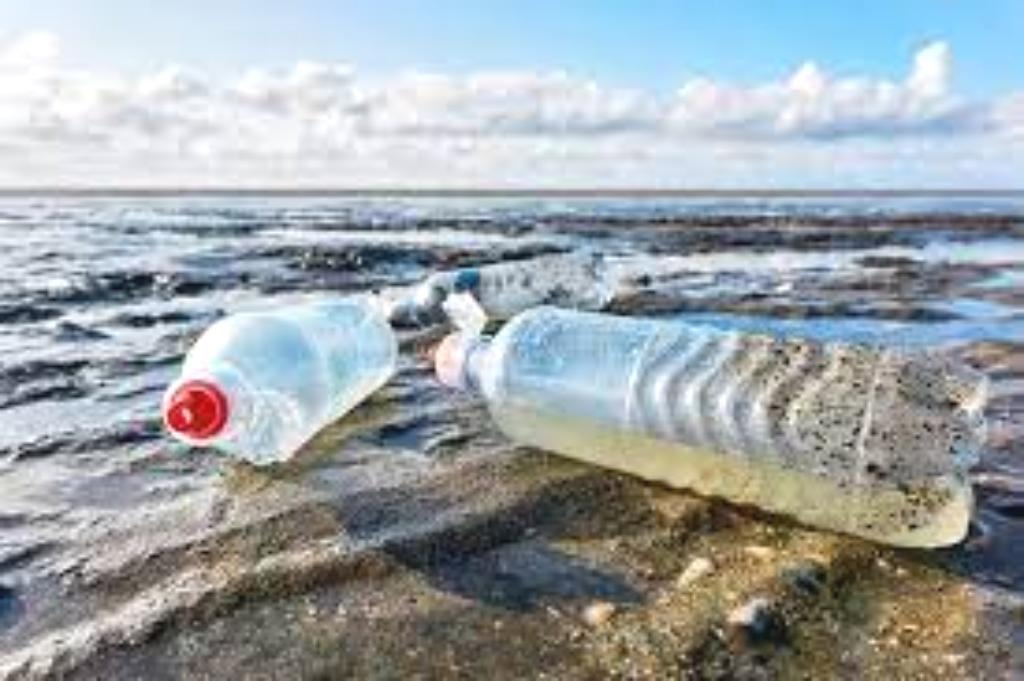garbage: (423, 311, 992, 546), (155, 277, 419, 486)
